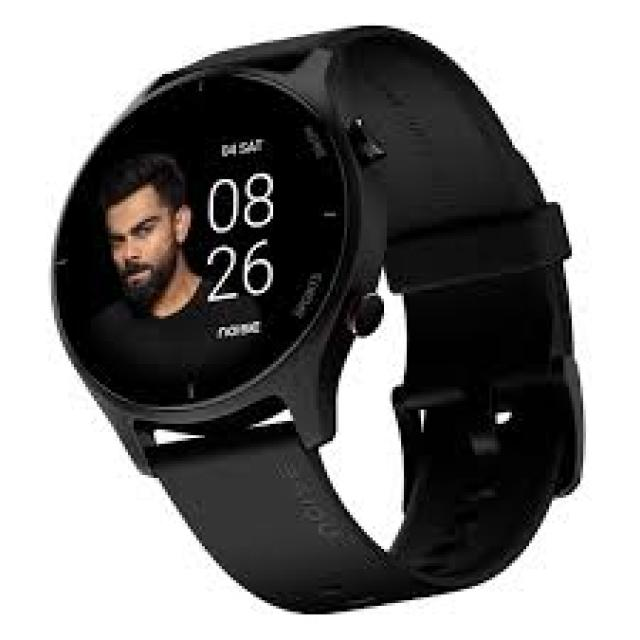objects: (54, 28, 580, 612)
